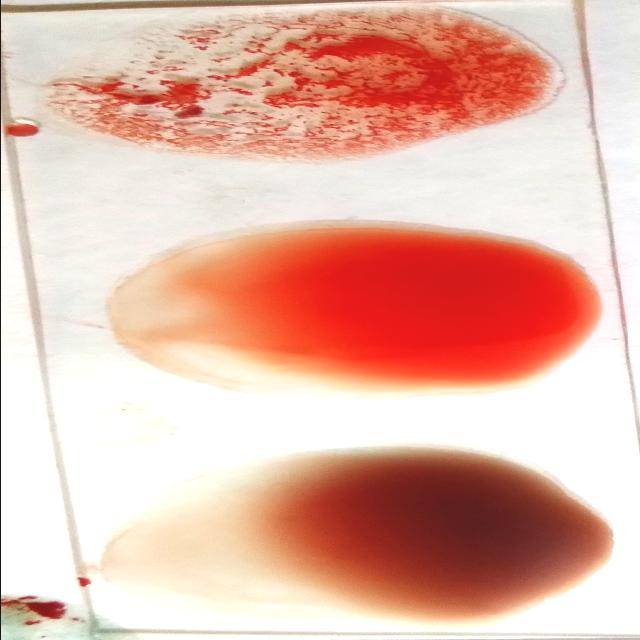D: (64, 9, 554, 157)
